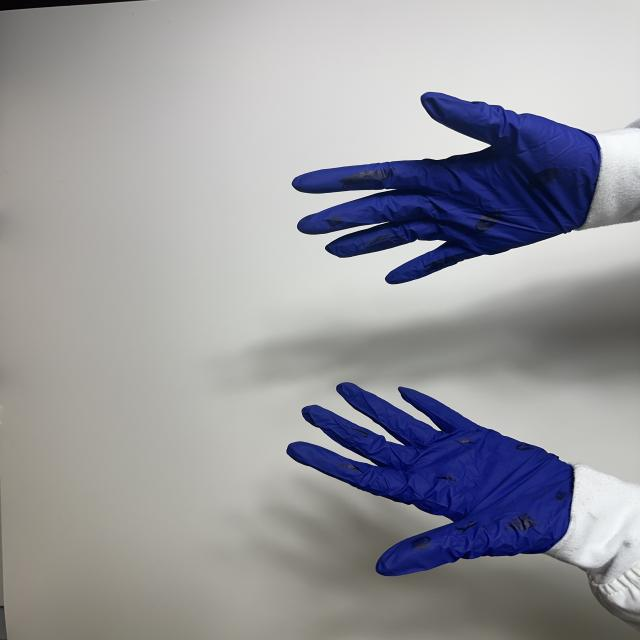gloves_contaminated: (293, 93, 601, 284), (287, 383, 574, 575)
